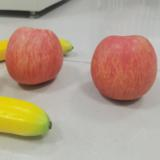apple: (91, 35, 157, 101), (6, 28, 63, 86)
